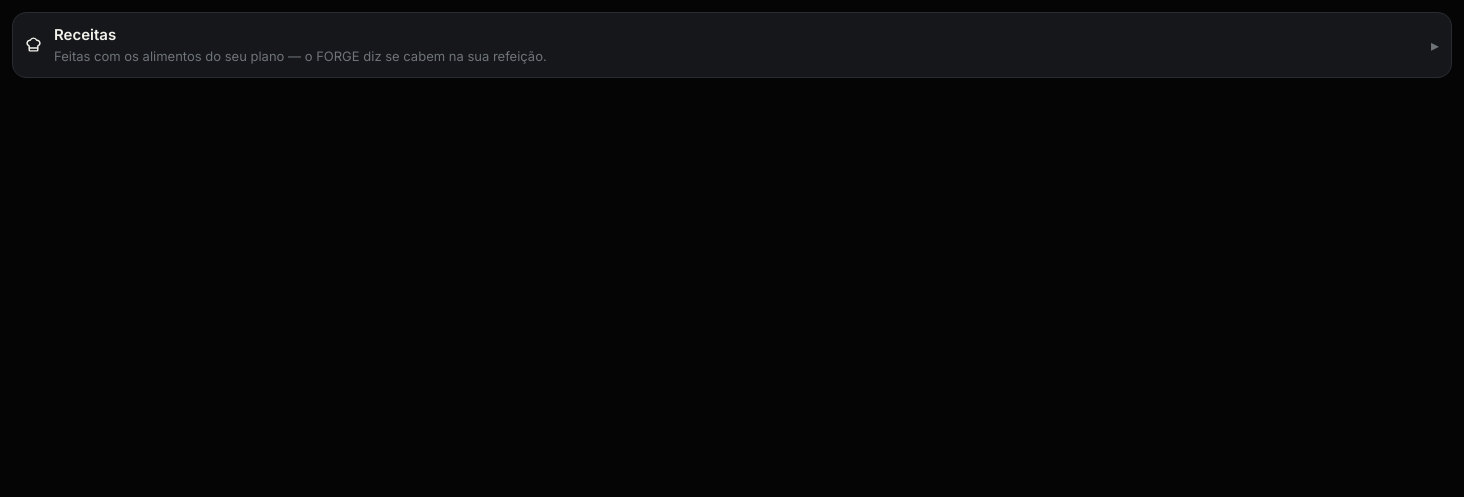
Scenario: escolher classe desmarca refeicao livre
Click the button with test id "abrir-receitas": [85, 34] box [12,12,1452,78]
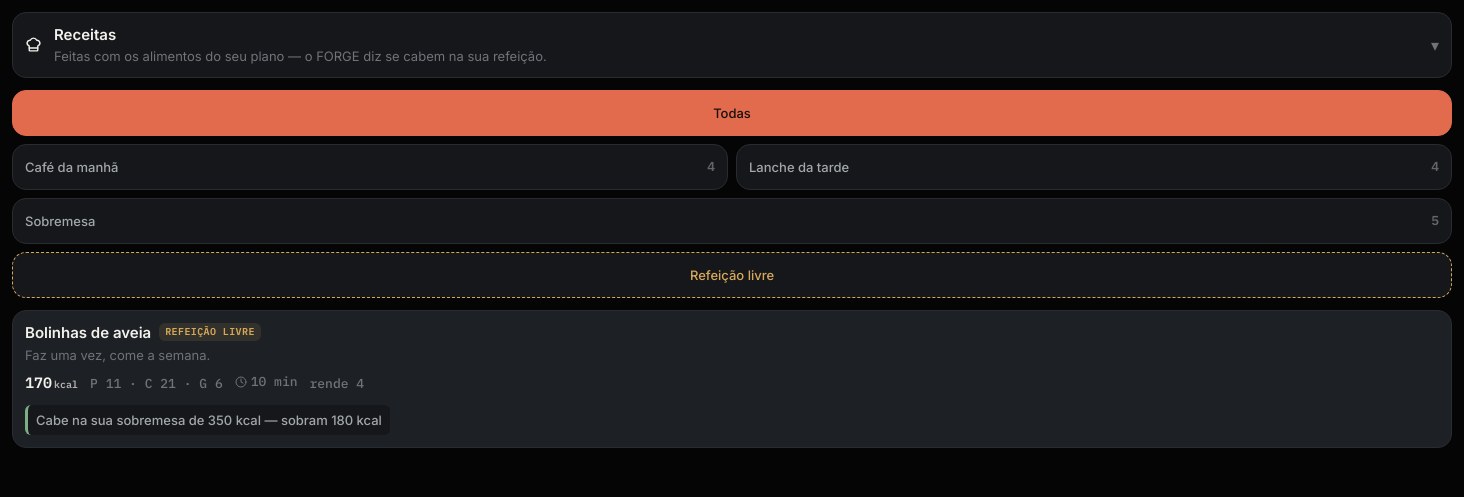
Click the tab with test id "aba-refeicao-livre": [732, 275] box [12,252,1452,298]
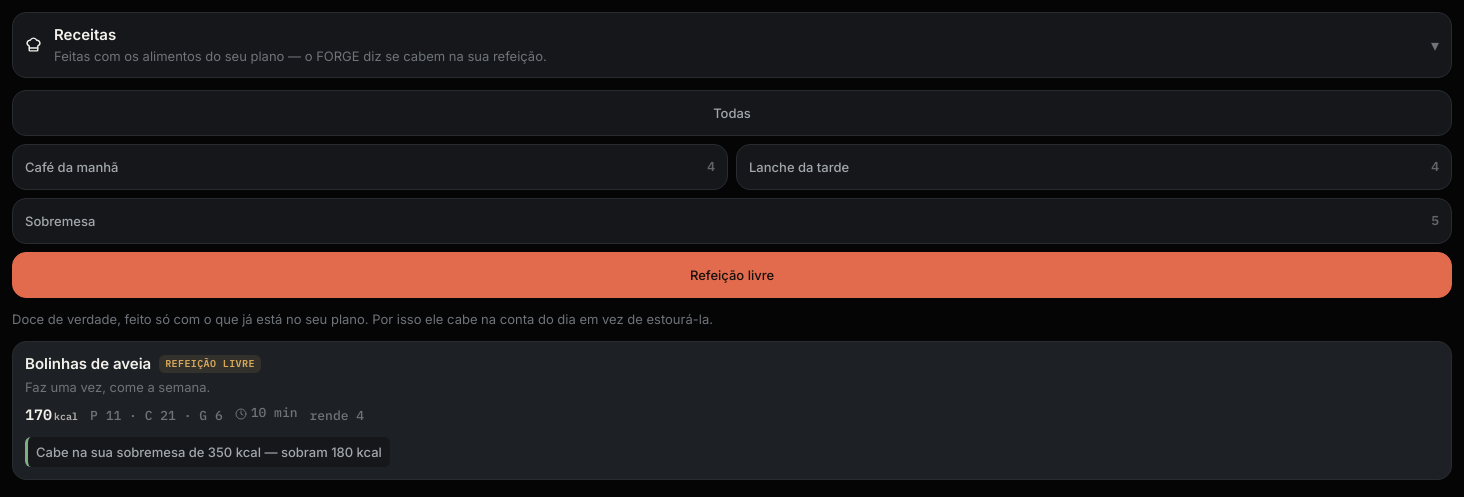
Click the tab with test id "aba-lanche": [799, 167] box [736,144,1452,190]
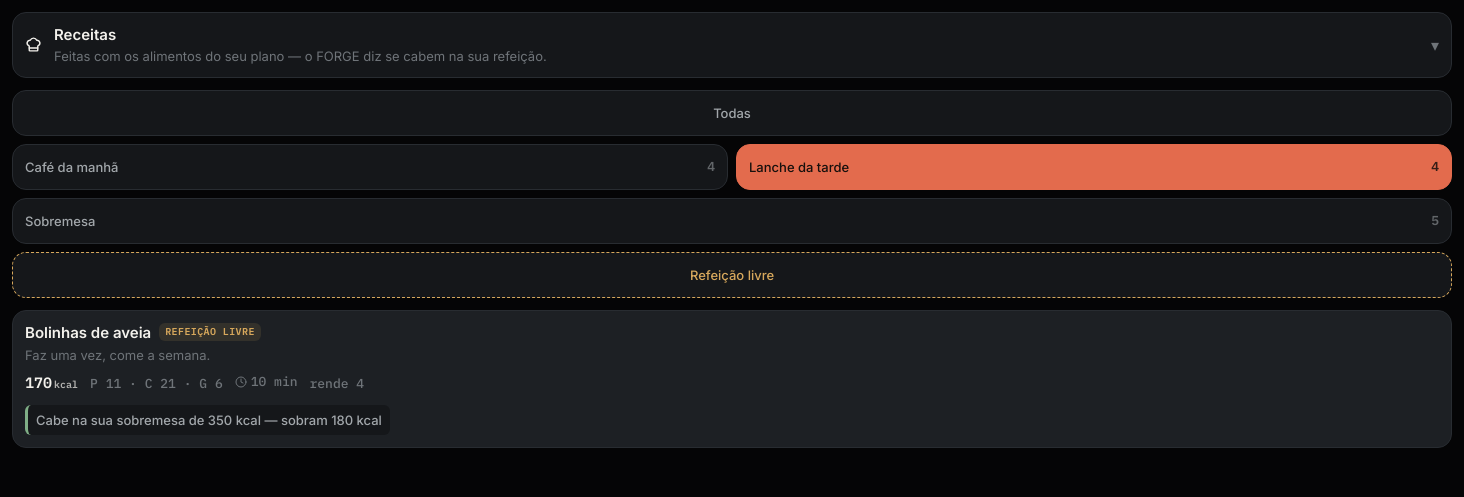
expect the tab with test id "aba-refeicao-livre" is not selected: met, box [12,252,1452,298]
